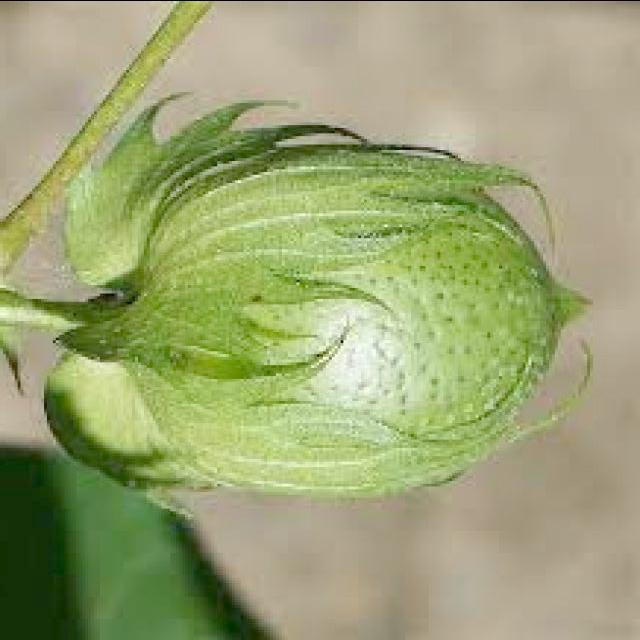Early Boll: (69, 114, 597, 508)
